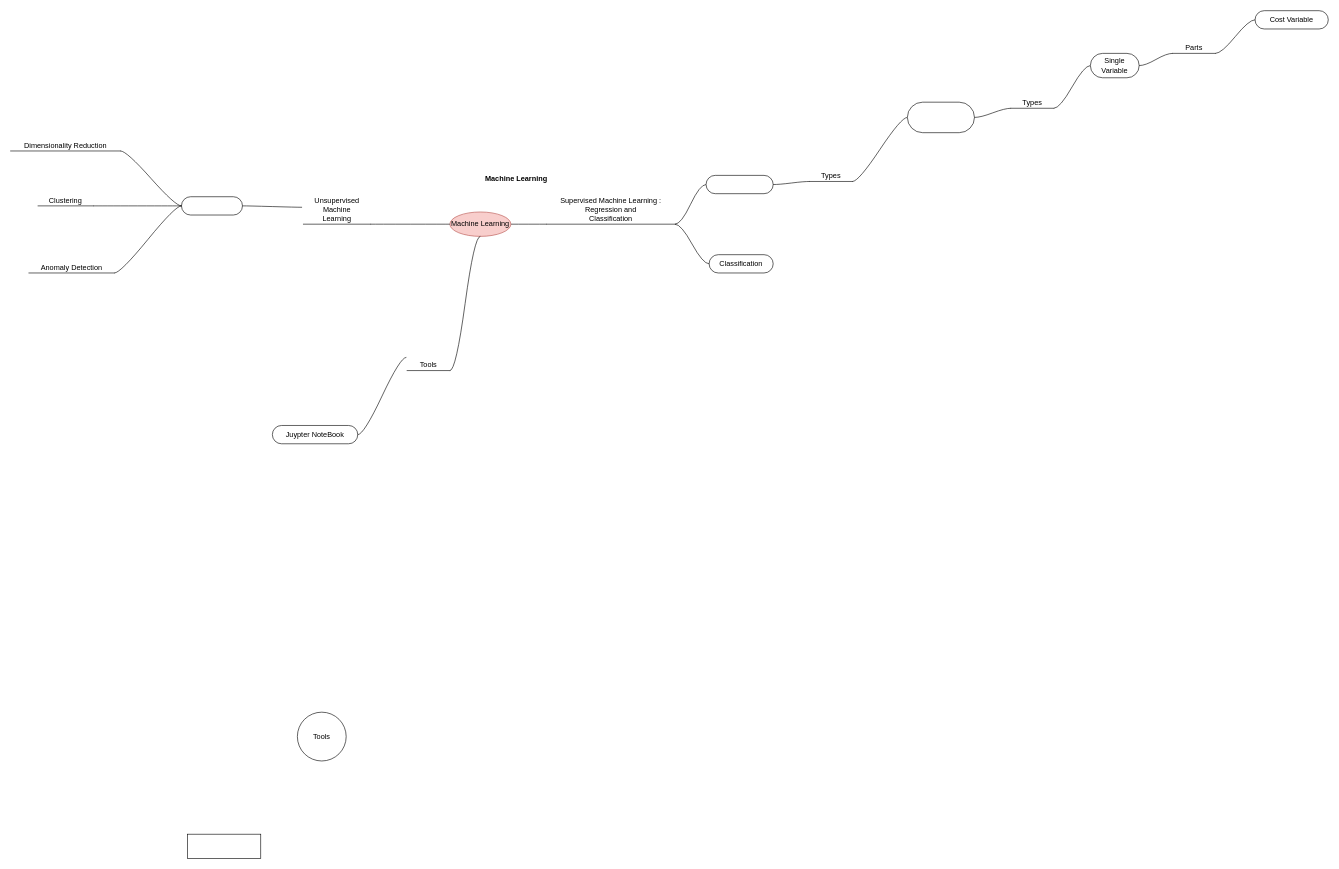
Some shapes in this 1339 by 869 pixel diagram are drawn without their labels. The box of each missing label's shape, as (x1, y1, x2, y2) in pixels:
Algorithms: (181, 196, 242, 215)
Jupyter Notebooks: (187, 834, 261, 859)
Linear Regression: (907, 102, 974, 133)
Regression: (705, 175, 773, 194)
